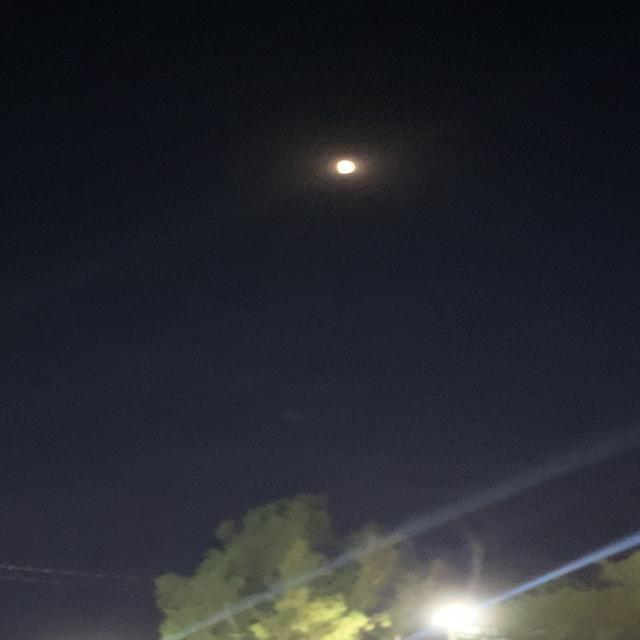moon: (314, 153, 380, 188)
